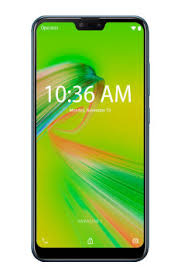asus: (28, 11, 150, 264)
